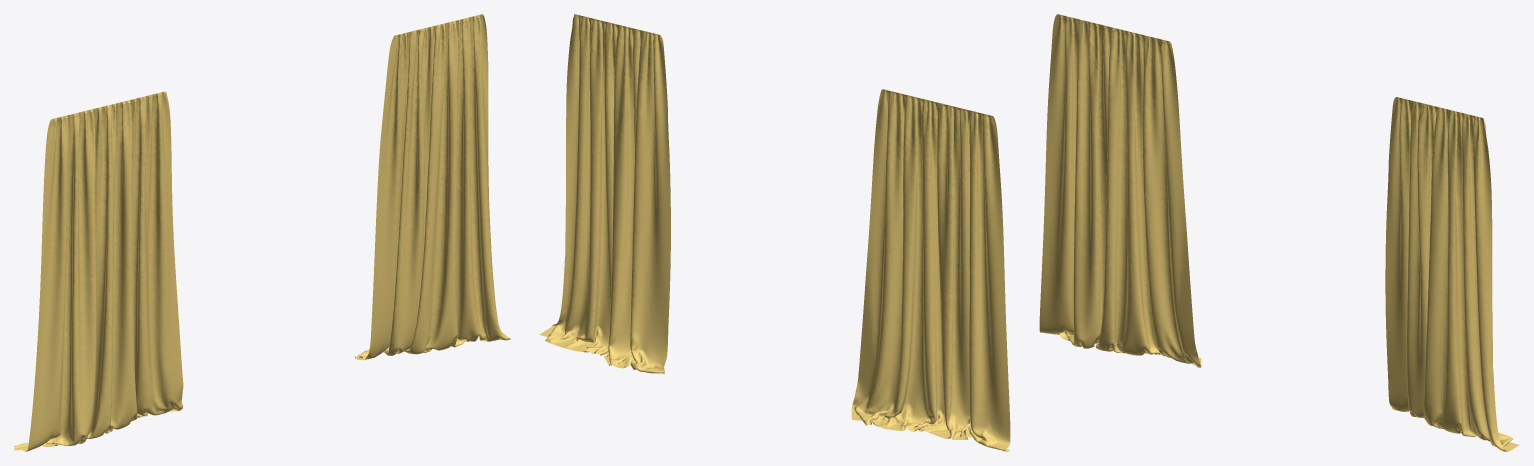
Rendered from CurtainYellow (1).fbx.
3 renders of one model, left to right at view 1: azimuth 30°, elevation 25°; view 2: azimuth 150°, elevation 25°; view 3: azimuth 330°, elevation 25°, orthographic. The views are drawn at different scales.
Parts seen in each view (by area): view 1: Modern curtain; view 2: Modern curtain; view 3: Modern curtain.
Boxes of the visible parts, x1,y1,x2,y2 form: Modern curtain: (14, 14, 510, 451); Modern curtain: (539, 14, 1010, 451); Modern curtain: (1039, 14, 1519, 451).
Size of the model in its own units: 444 by 289 by 46.83.
